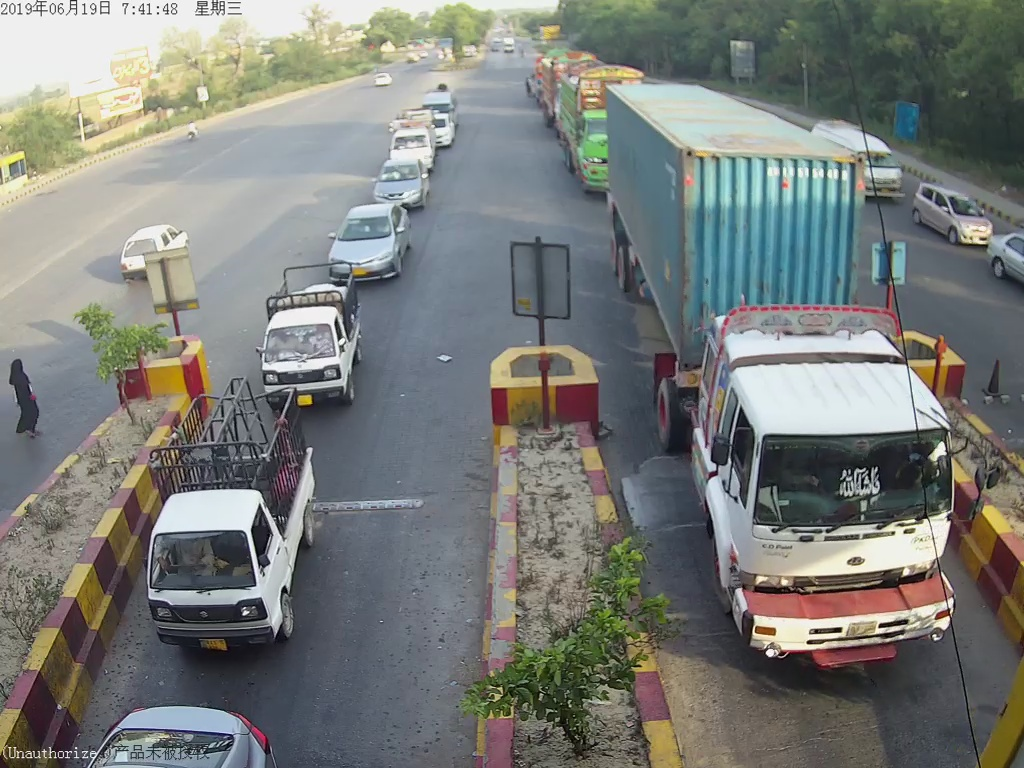Cat-1: (139, 402, 317, 651), (255, 273, 360, 405), (329, 208, 411, 281), (373, 161, 426, 205)
Cat-5: (595, 80, 975, 685)
